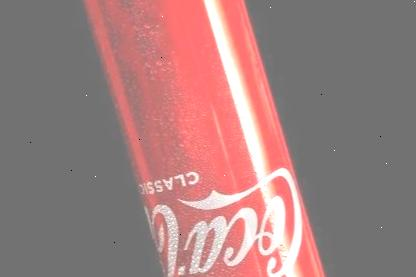Can: (70, 0, 331, 277)
